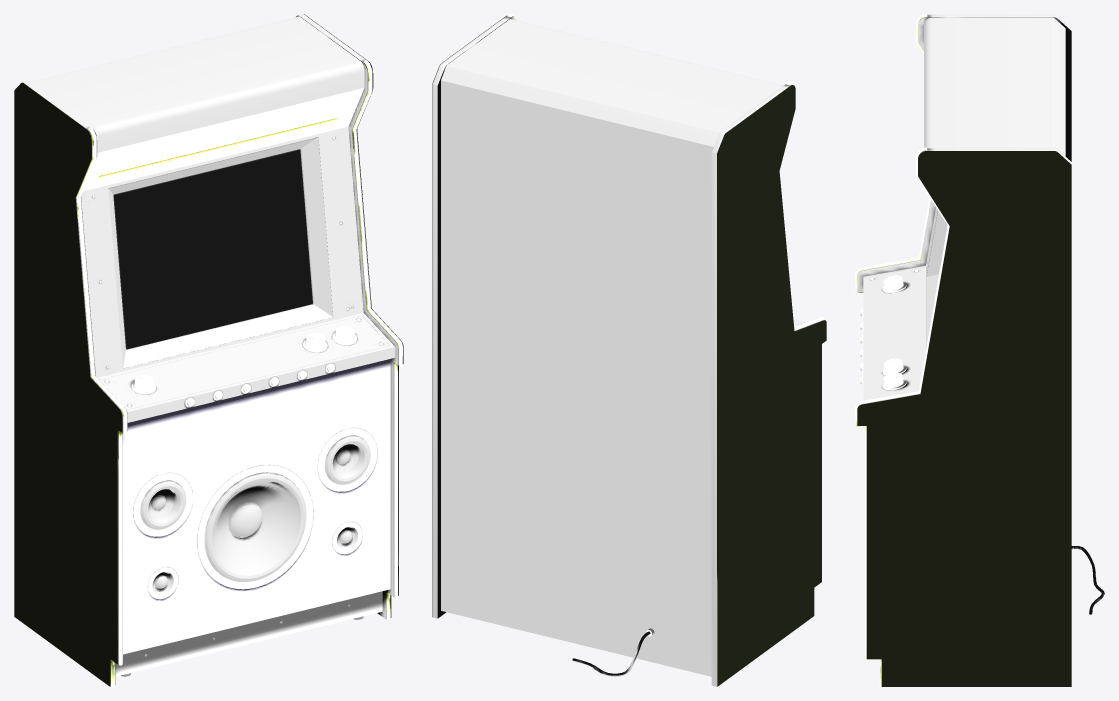
File: mach-hookline-v2.glb
3 renders of one model, left to right at view 1: azimuth 30°, elevation 25°; view 2: azimuth 150°, elevation 25°; view 3: azimuth 270°, elevation 25°, orthographic. The views are drawn at different scales.
Parts seen in each view (by area): view 1: body, side_art_l, screen, glass, trim, metal, side_art_r; view 2: body, side_art_l, side_art_r; view 3: side_art_r, body, trim, metal.
Boxes of the visible parts, left/top/right/bottom form: body: left=22, top=14, right=403, bottom=686; side_art_l: left=14, top=82, right=122, bottom=686; screen: left=114, top=150, right=312, bottom=348; glass: left=115, top=150, right=313, bottom=349; trim: left=76, top=60, right=402, bottom=686; metal: left=92, top=137, right=383, bottom=676; side_art_r: left=304, top=14, right=403, bottom=617; body: left=432, top=16, right=824, bottom=686; side_art_l: left=717, top=85, right=826, bottom=686; side_art_r: left=432, top=15, right=506, bottom=616; side_art_r: left=857, top=151, right=1071, bottom=686; body: left=857, top=14, right=1071, bottom=408; trim: left=855, top=14, right=949, bottom=686; metal: left=870, top=264, right=927, bottom=390.
Size of the model in its own units: 1.05 by 1.94 by 0.8155.
Materials: 19 (7 with a texture image).
